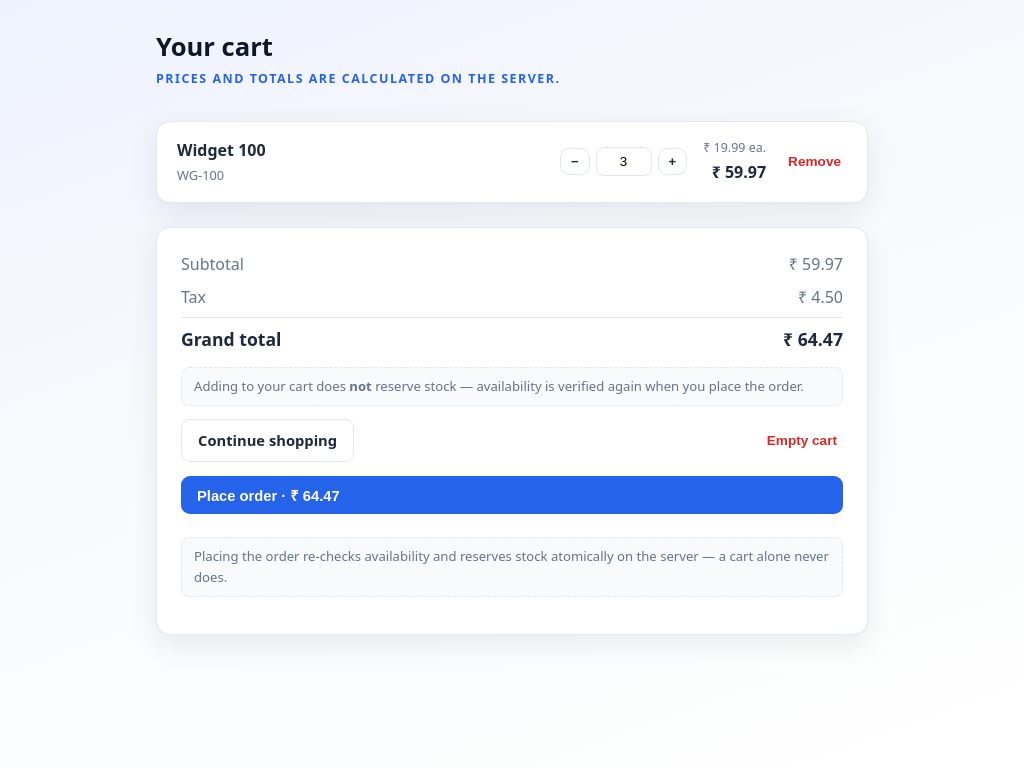
CartPage › increments quantity via PATCH with an absolute value and re-renders
Check: the text "Widget 100" is shown, box [177,139,266,161]
Click the button "+" at (672, 162), box [658,148,687,175]
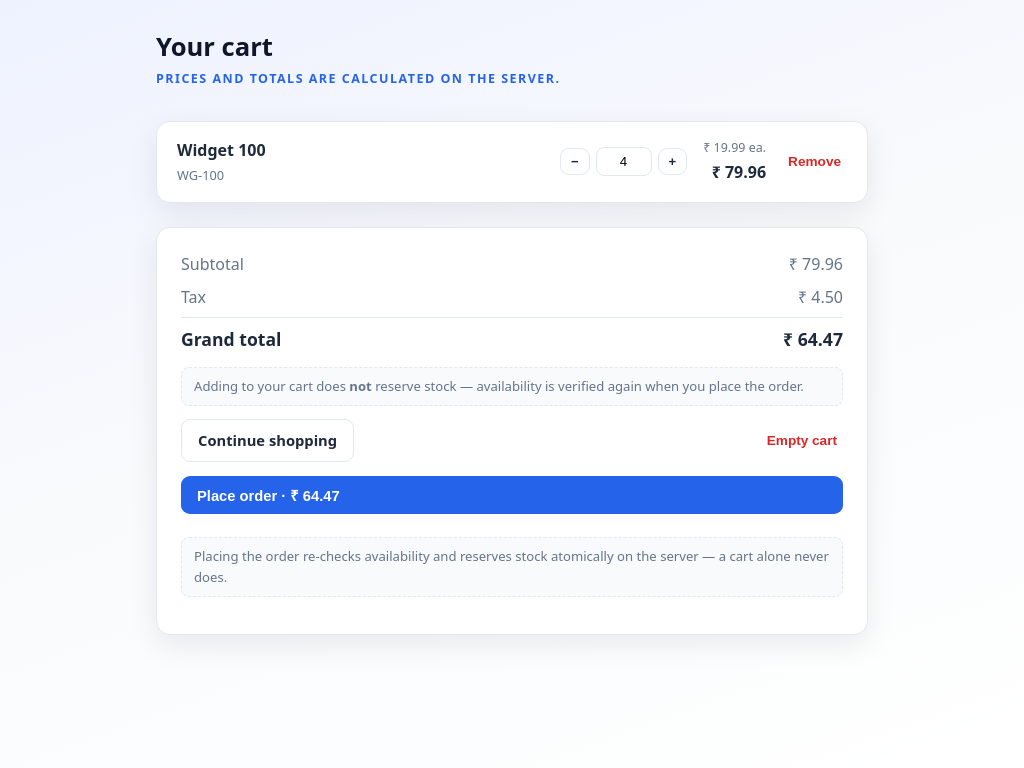
Check: the text "₹ 79.96" below "19.99" is shown, box [712,161,766,183]
